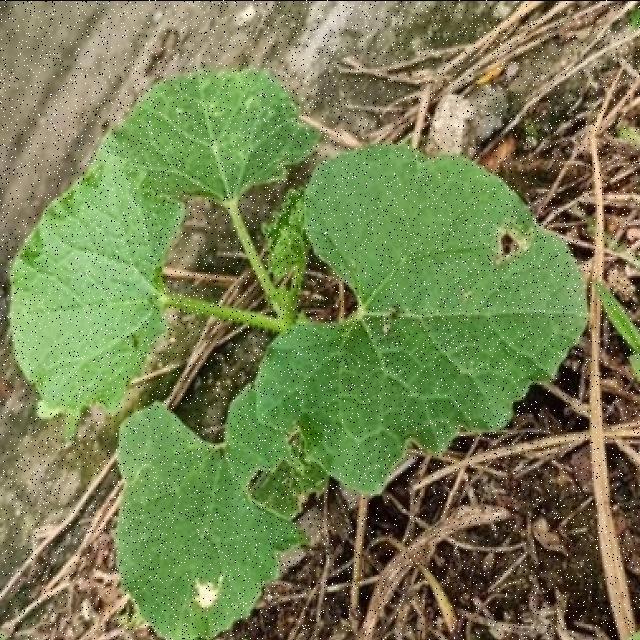plant: (12, 70, 588, 638)
